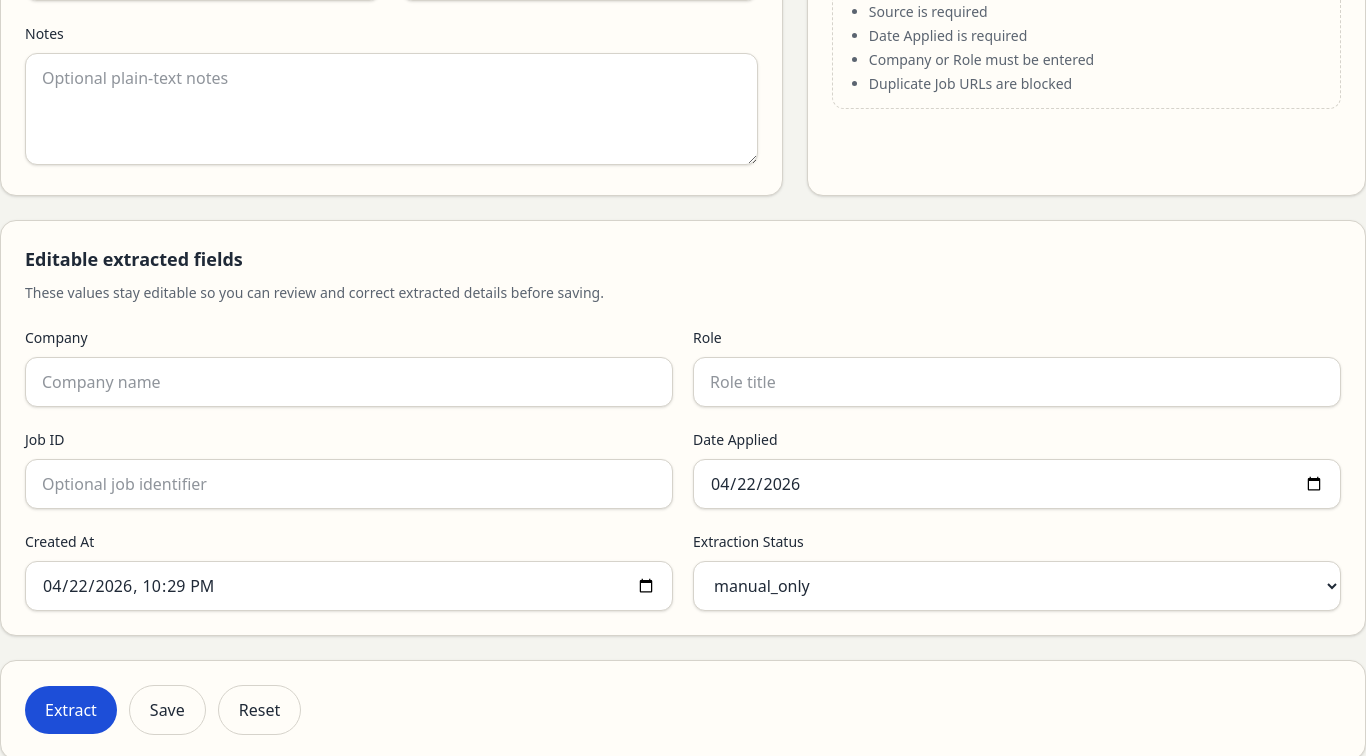
it: AddJobForm › shows validation feedback for the required save fields
This screenshot has width=1366, height=756.
(page scrolled)
Click the button "Save" at (167,710), box [129,685,206,735]
(page scrolled)
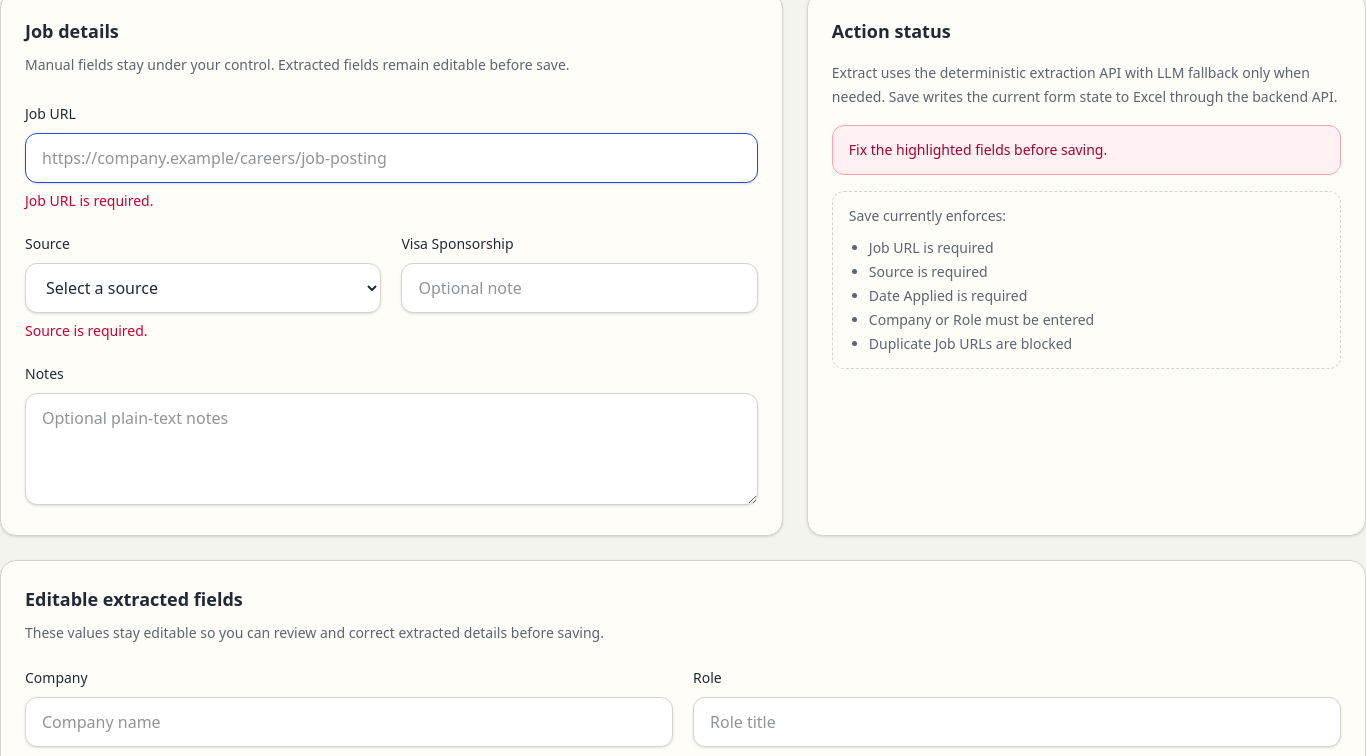
Result: the text "Job URL is required." is shown at [25,191,154,210]
Result: the text "Source is required." is shown at [25,321,148,340]
Result: the text "Fix the highlighted fields before saving." is shown at [832,125,1341,175]
